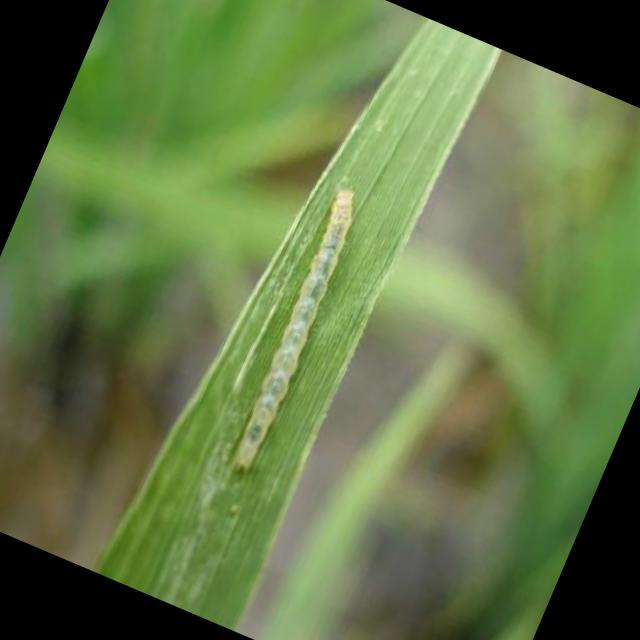leaf-folder: (196, 178, 386, 500)
